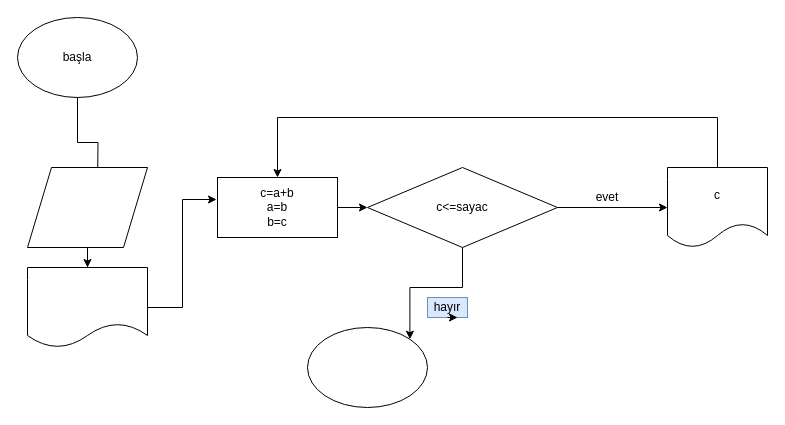
This 785x425 diagram has some shape labels left out. The centre of each missing label's shape, as x and y in pixels:
"Fİbonacci dizisi: " a b: (87,307)
bitir: (367,367)
sayac=5 a=1 b=1 c=0: (87,207)
